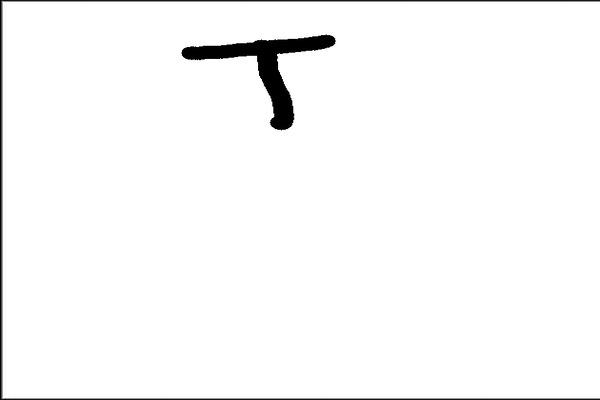T: (178, 26, 339, 135)
